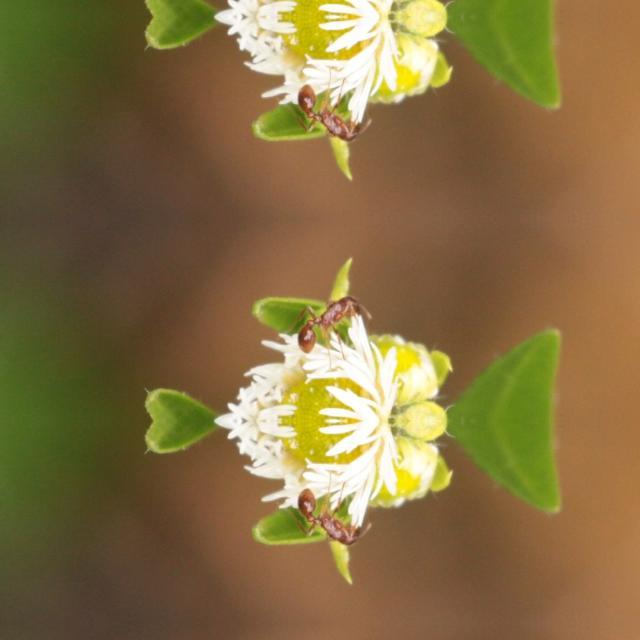Myrmica: (296, 294, 362, 350), (296, 86, 362, 142), (296, 492, 362, 546)
